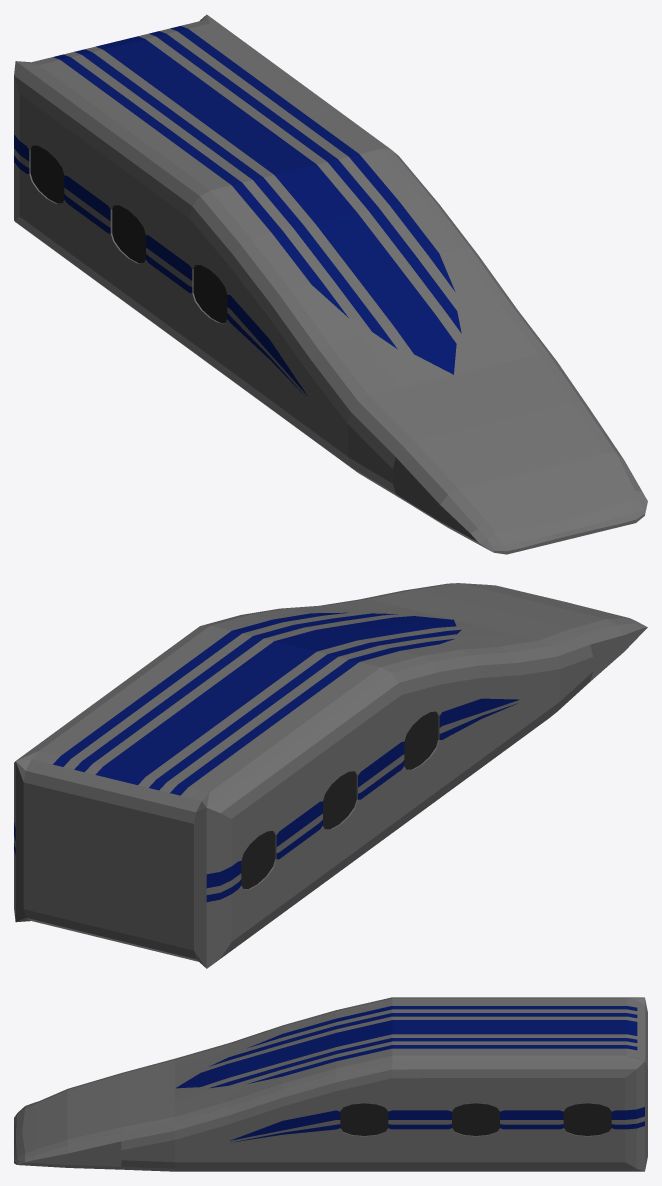
Rendered from Train1.fbx.
3 views of the same model, one above another, from view 1: azimuth 30°, elevation 25°; view 2: azimuth 150°, elevation 25°; view 3: azimuth 270°, elevation 25° (orthographic). The views are drawn at different scales.
Visible parts, largest first — view 1: Cube.001; view 2: Cube.001; view 3: Cube.001.
Boxes of the visible parts, box(x1,y1,x2,y2) form: Cube.001: box(14, 14, 647, 554); Cube.001: box(14, 583, 647, 968); Cube.001: box(14, 997, 647, 1171).
Bounding box in the file's own units: 346 × 261 × 1308.
